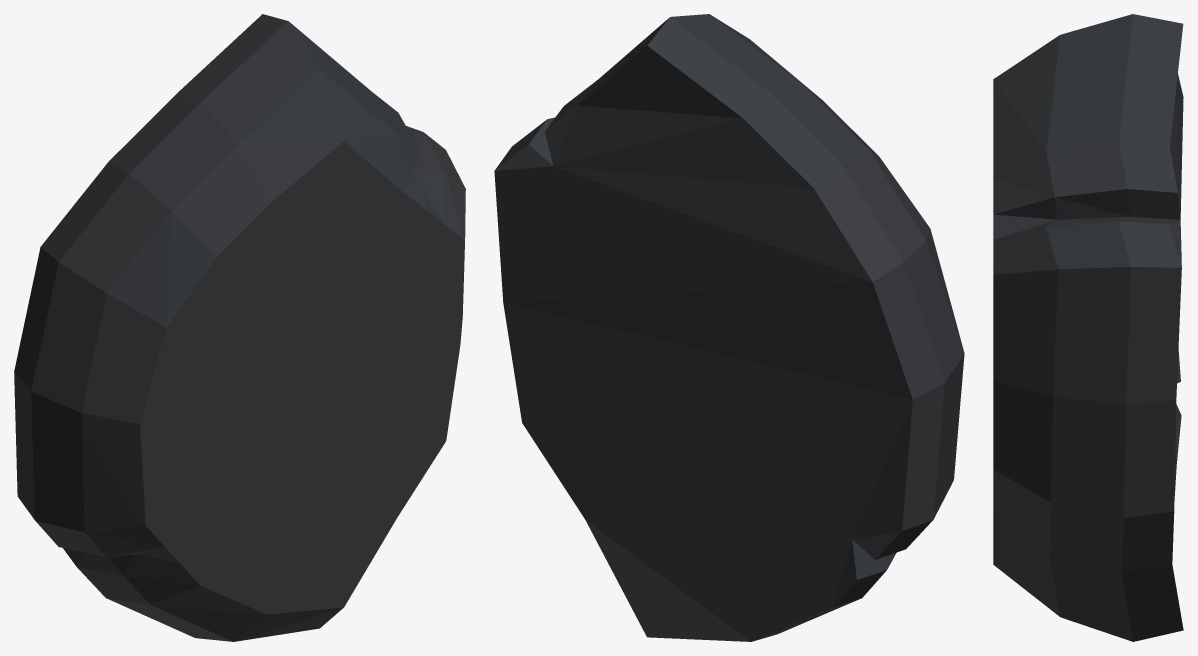
The model's file is FERNSTONE_GREEN.shadow.glb.
3 renders of one model, left to right at view 1: azimuth 30°, elevation 25°; view 2: azimuth 150°, elevation 25°; view 3: azimuth 270°, elevation 25°, orthographic. The views are drawn at different scales.
Parts seen in each view (by area): view 1: Body_Mesh; view 2: Body_Mesh; view 3: Body_Mesh.
Part boxes in pixels (x1,y1,x2,y2): Body_Mesh: (14, 14, 465, 641); Body_Mesh: (494, 14, 964, 641); Body_Mesh: (993, 14, 1183, 641).
Size of the model in its own units: 0.2707 by 0.3709 by 0.1019.
1 material, 1 textured.
